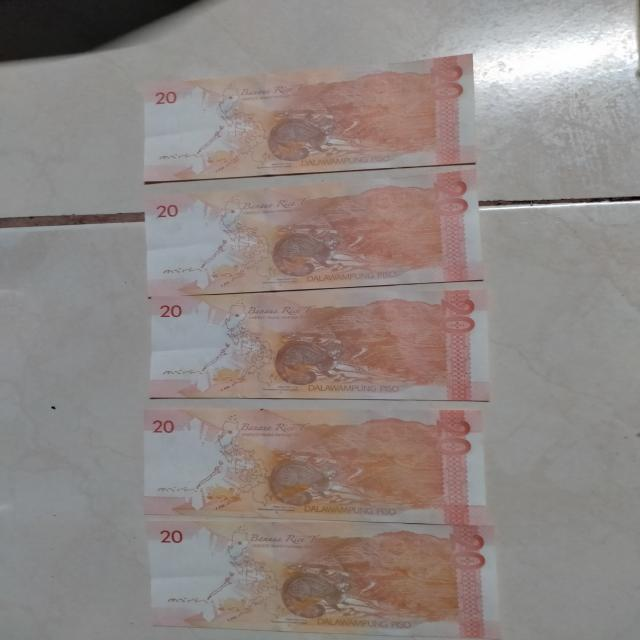20_civet: (267, 450, 348, 514)
20_civet_watermark: (194, 478, 245, 514), (206, 358, 256, 386)
